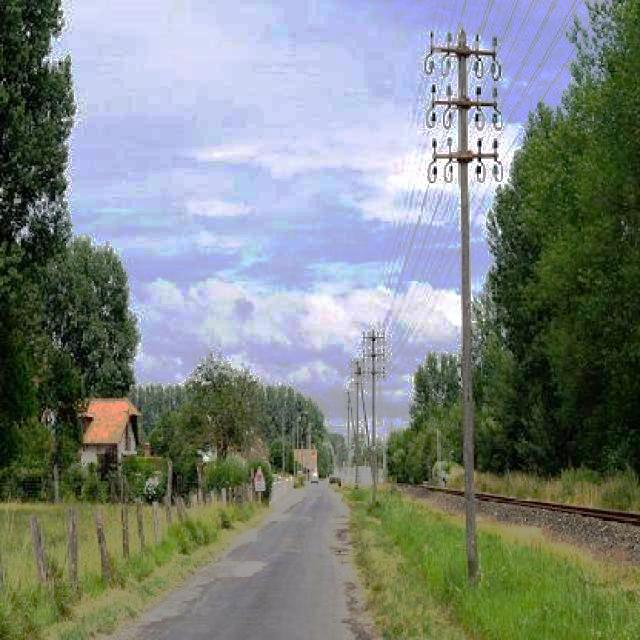poles: (424, 30, 504, 583)
